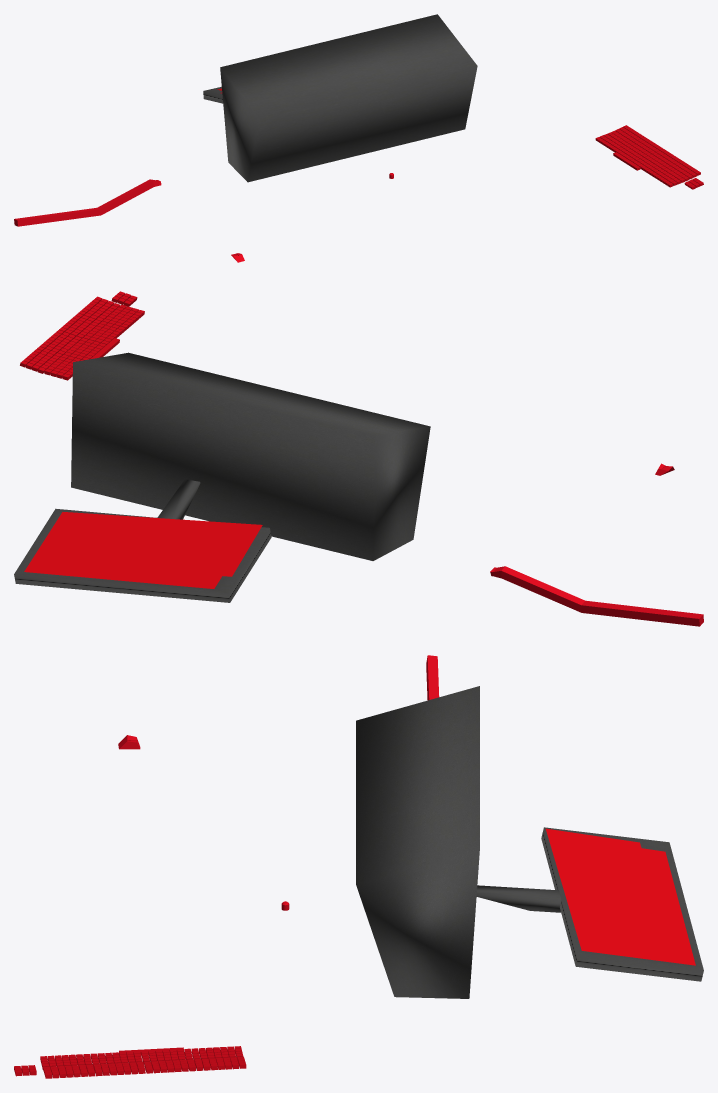
Rendered from terminal_broken.fbx.
The picture shows the model from 3 angles, top to bottom: view 1: azimuth 30°, elevation 25°; view 2: azimuth 150°, elevation 25°; view 3: azimuth 270°, elevation 25°; orthographic projection. The views are drawn at different scales.
Parts seen in each view (by area): view 1: Terminal Base, Wire; view 2: Terminal Base, Screen, Monitor, Wire, Monitor Stand; view 3: Terminal Base, Screen, Monitor, Monitor Stand.
Boxes of the visible parts, x1=… form: Terminal Base: x1=220, y1=14, x2=477, y2=182; Wire: x1=14, y1=179, x2=161, y2=226; Terminal Base: x1=71, y1=352, x2=430, y2=560; Screen: x1=24, y1=512, x2=262, y2=588; Monitor: x1=14, y1=508, x2=271, y2=602; Wire: x1=490, y1=566, x2=703, y2=626; Monitor Stand: x1=157, y1=479, x2=200, y2=519; Terminal Base: x1=356, y1=686, x2=479, y2=998; Screen: x1=546, y1=828, x2=695, y2=965; Monitor: x1=541, y1=827, x2=703, y2=981; Monitor Stand: x1=476, y1=885, x2=561, y2=912.
Size of the model in its own units: 1546 by 274 by 1065.
Materials: 271 (3 with a texture image).
